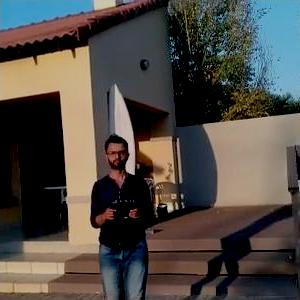follow: (87, 129, 158, 298)
